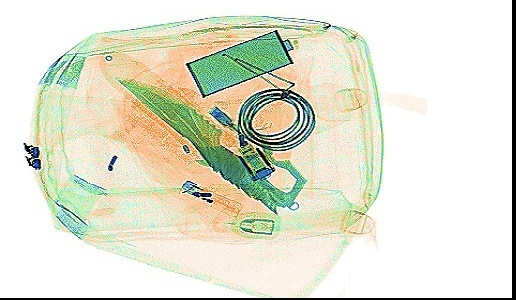knife: (114, 73, 308, 214)
lighter: (177, 178, 242, 216)
zippooil: (183, 29, 292, 96)
